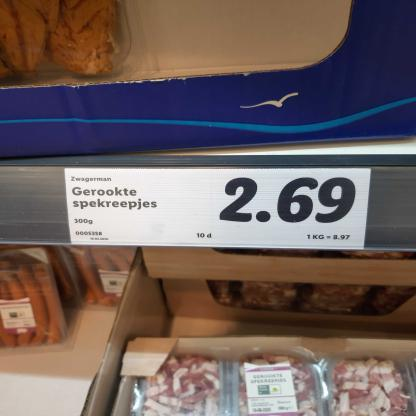prtg: (66, 170, 372, 250)
